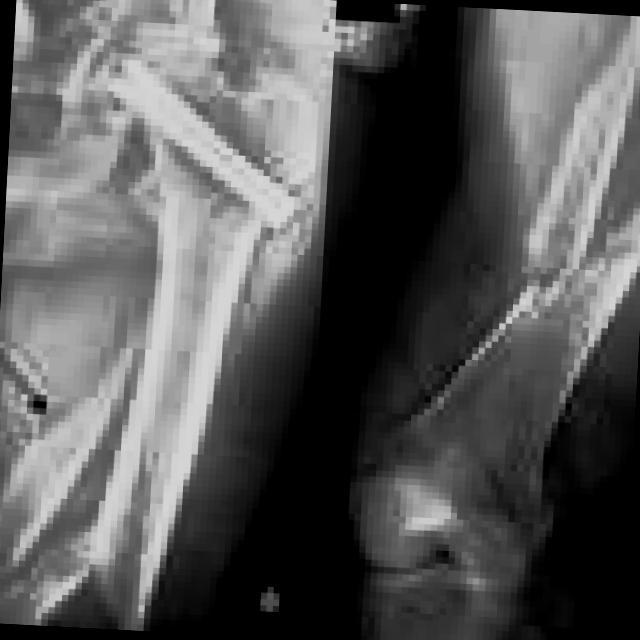Comminuted Fracture: (156, 151, 284, 257)
